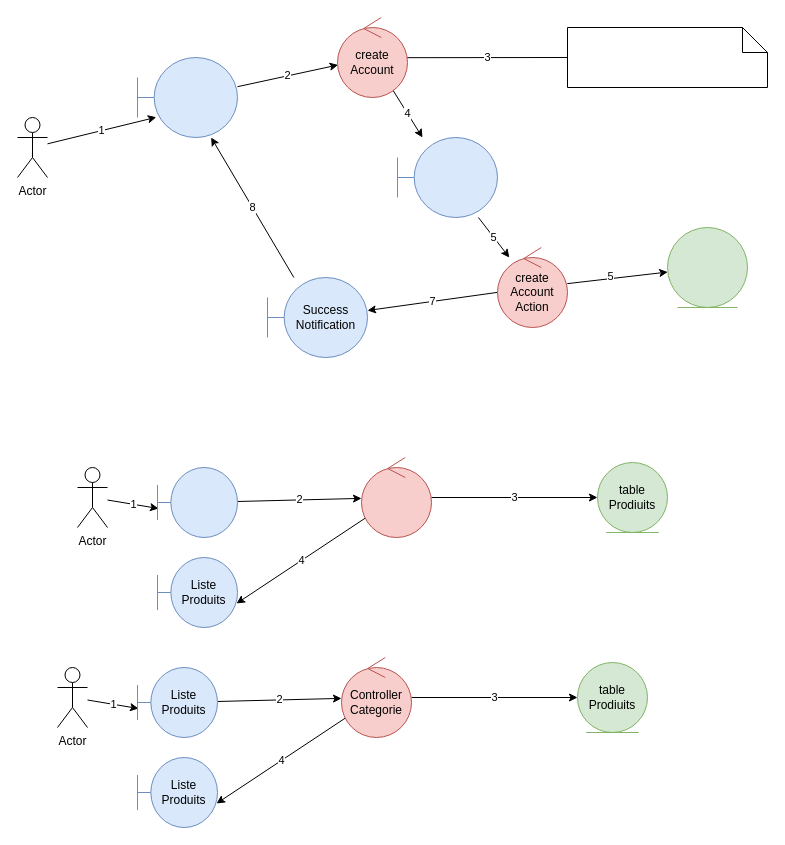
Some shapes in this 785 by 845 pixel diagram are drawn without their labels. The shapes that lost their labels are listed below. From the top down, each one's box as (x1, y1, x2, y2) in pixels, then its label:
(566, 26, 768, 88): use case generateNewAccountNumber
(136, 56, 238, 138): HomePage
(396, 136, 498, 218): newAcount Form
(666, 226, 748, 308): AccountTable
(156, 466, 238, 538): Accueil
(360, 456, 432, 538): Controlleur Produit
